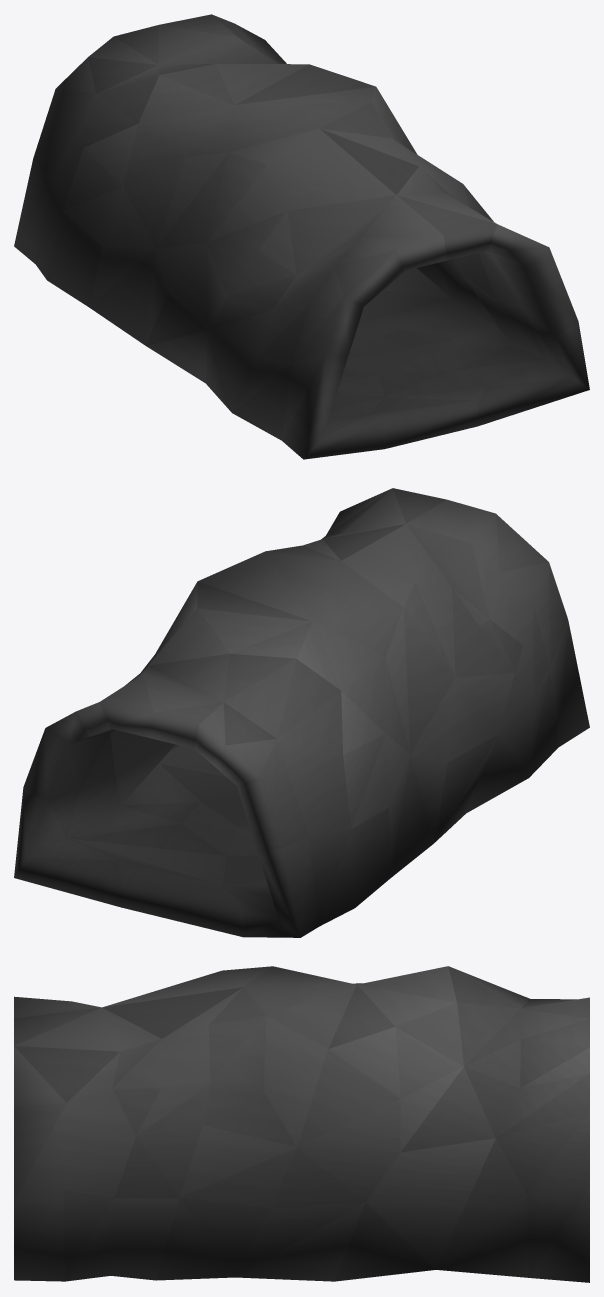
Rendered from GL-Cave-part-03.fbx.
The picture shows the model from 3 angles, top to bottom: view 1: azimuth 30°, elevation 25°; view 2: azimuth 150°, elevation 25°; view 3: azimuth 270°, elevation 25°; orthographic projection.
Parts seen in each view (by area): view 1: GL-Cave-part-03; view 2: GL-Cave-part-03; view 3: GL-Cave-part-03.
Part boxes in pixels (<box>): GL-Cave-part-03: <box>14,14,589,459</box>; GL-Cave-part-03: <box>14,488,589,937</box>; GL-Cave-part-03: <box>14,966,589,1282</box>.
Size of the model in its own units: 3.61 by 2.62 by 6.
